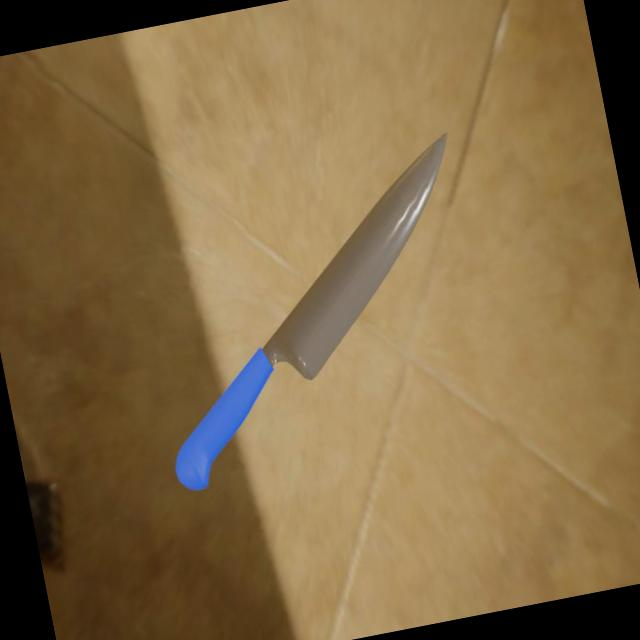knife: (155, 345, 295, 494)
